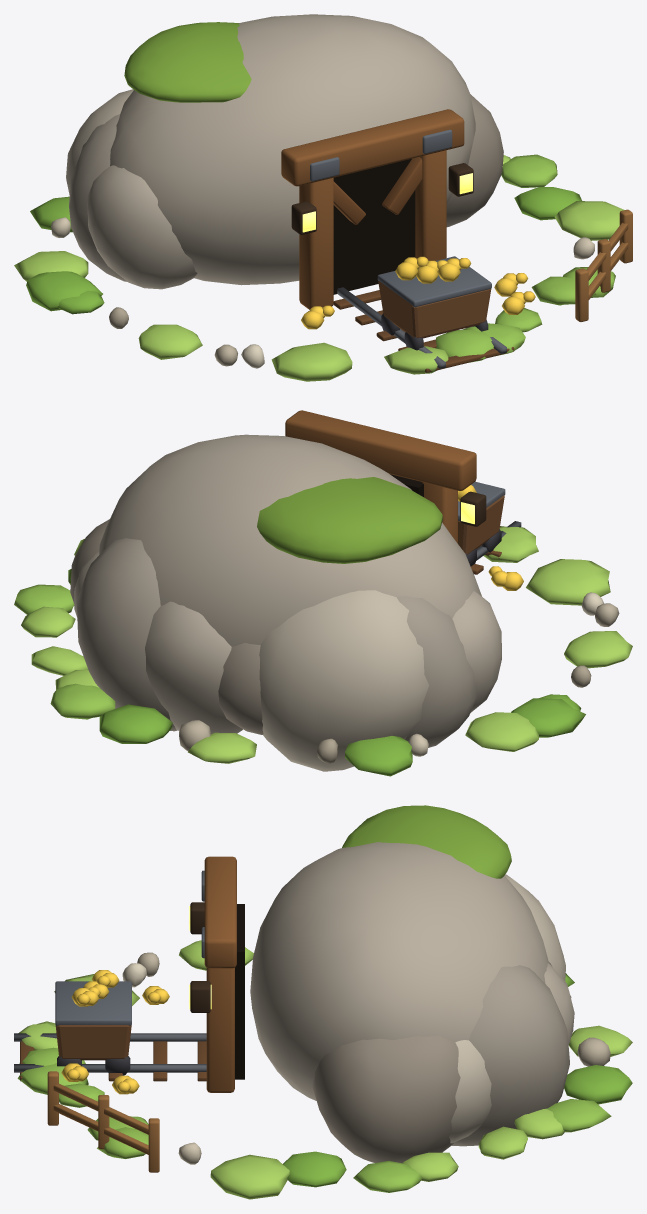
The model's file is m_small.glb.
The picture shows the model from 3 angles, top to bottom: view 1: azimuth 30°, elevation 25°; view 2: azimuth 150°, elevation 25°; view 3: azimuth 270°, elevation 25°; orthographic projection. The views are drawn at different scales.
Parts seen in each view (by area): view 1: root_matte#b4aa9a, root_matte#8a5a30, root_matte#a8d060, moss, mouthDark, root_matte#94c252, root_matte#7fb243, cart, root_metal#5e646c, root_matte#a39a8c, root_matte#968c7e, root_matte#9a6a3a (+13 smaller); view 2: root_matte#b4aa9a, root_matte#c2b8a6, root_matte#a39a8c, root_matte#a8d060, moss, root_matte#8a5a30, root_matte#7fb243, root_matte#968c7e, root_matte#94c252, cart, root_matte#b8ad98, root_matte#a99e8a (+2 smaller); view 3: root_matte#b4aa9a, root_matte#968c7e, root_matte#a39a8c, root_matte#a8d060, root_matte#8a5a30, moss, root_matte#94c252, root_matte#c2b8a6, root_matte#7fb243, root_matte#9a6a3a, root_metal#5e646c, cart (+5 smaller).
Boxes of the visible parts, x1,y1,x2,y2 form: root_matte#b4aa9a: (87, 14, 475, 289); root_matte#8a5a30: (281, 109, 464, 309); root_matte#a8d060: (14, 155, 624, 381); moss: (124, 22, 251, 102); mouthDark: (333, 158, 415, 294); root_matte#94c252: (435, 154, 615, 362); root_matte#7fb243: (26, 187, 581, 314); cart: (378, 281, 491, 338); root_metal#5e646c: (310, 129, 491, 307); root_matte#a39a8c: (69, 114, 127, 281); root_matte#968c7e: (446, 94, 503, 227); root_matte#9a6a3a: (575, 209, 632, 321); root_matte#b4aa9a: (99, 434, 501, 733); root_matte#c2b8a6: (74, 552, 429, 771); root_matte#a39a8c: (76, 538, 476, 747); root_matte#a8d060: (21, 526, 632, 763); moss: (257, 477, 442, 563); root_matte#8a5a30: (285, 410, 476, 543); root_matte#7fb243: (68, 569, 585, 776); root_matte#968c7e: (70, 519, 263, 734); root_matte#94c252: (14, 584, 115, 719); cart: (458, 495, 504, 554); root_matte#b8ad98: (179, 603, 619, 751); root_matte#a99e8a: (316, 665, 591, 763); root_matte#b4aa9a: (250, 842, 574, 1100); root_matte#968c7e: (312, 962, 552, 1163); root_matte#a39a8c: (452, 965, 569, 1146); root_matte#a8d060: (18, 940, 632, 1199); root_matte#8a5a30: (204, 856, 236, 1092); moss: (342, 805, 511, 878); root_matte#94c252: (17, 1047, 611, 1192); root_matte#c2b8a6: (449, 874, 565, 1143); root_matte#7fb243: (283, 973, 632, 1187); root_matte#9a6a3a: (47, 1071, 159, 1172); root_metal#5e646c: (55, 870, 204, 1025); cart: (55, 1025, 131, 1060).
Bounding box in the file's own units: 3.14 × 1.37 × 3.07.
